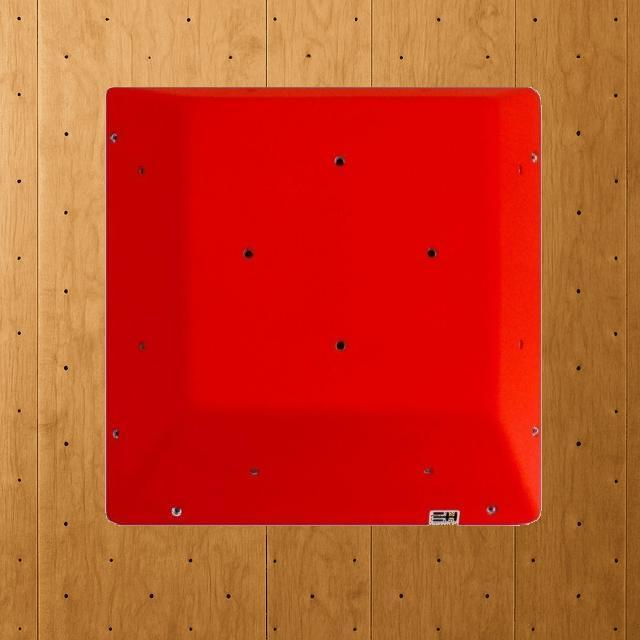Volume: (104, 86, 544, 526)
